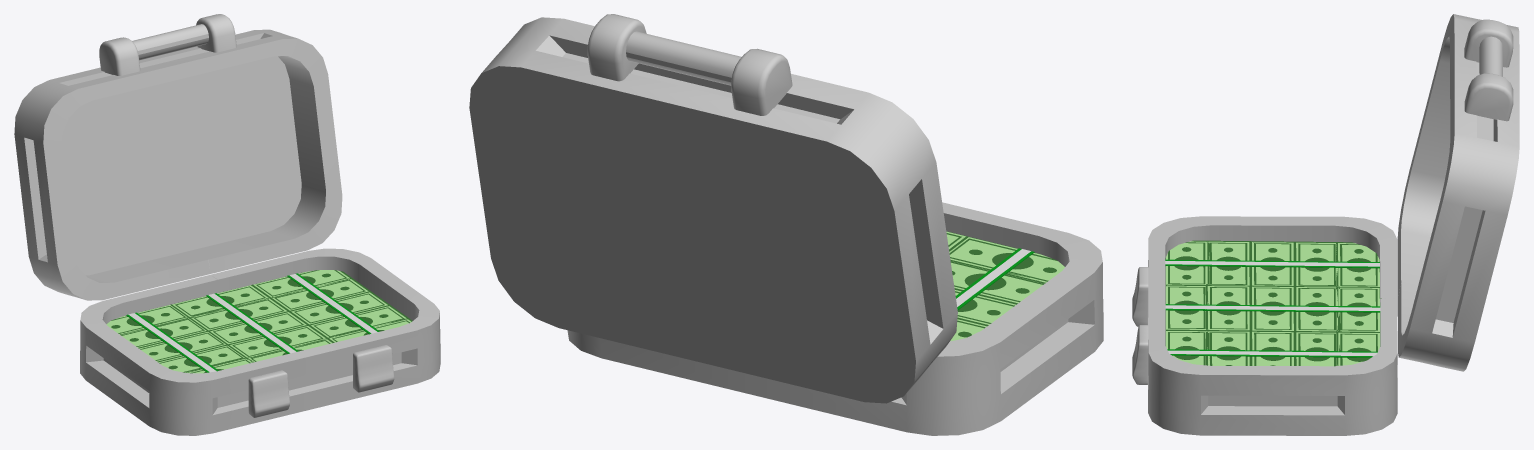
The model's file is suitcase of money.fbx.
3 renders of one model, left to right at view 1: azimuth 30°, elevation 25°; view 2: azimuth 150°, elevation 25°; view 3: azimuth 270°, elevation 25°, orthographic. The views are drawn at different scales.
Visible parts, largest first — view 1: case, Money.009, Money.013, Money.007, Money.008, Money.012, Money.006, Money.014, Money.011, Money.003, Money.001, Money.002 (+3 smaller); view 2: case, Money.005, Money.004, Money.003; view 3: case, Money.009, Money.003, Money.008, Money.007, Money.006, Money.004, Money.002, Money.010, Money.005, Money.001, Money.014 (+4 smaller).
Part boxes in pixels (x1,y1,x2,y2): case: (14, 14, 440, 435); Money.009: (227, 325, 327, 358); Money.013: (289, 291, 389, 325); Money.007: (188, 298, 288, 331); Money.008: (208, 311, 307, 345); Money.012: (270, 277, 370, 310); Money.006: (170, 285, 268, 318); Money.014: (308, 305, 408, 338); Money.011: (251, 270, 352, 297); Money.003: (138, 331, 226, 361); Money.001: (106, 305, 188, 334); Money.002: (120, 317, 207, 347); case: (469, 14, 1103, 435); Money.005: (949, 237, 1064, 283); Money.004: (950, 261, 1044, 303); Money.003: (954, 288, 1017, 325); case: (1132, 14, 1519, 435); Money.009: (1205, 285, 1252, 330); Money.003: (1249, 241, 1296, 285); Money.008: (1249, 285, 1295, 331); Money.007: (1293, 286, 1340, 331); Money.006: (1335, 286, 1381, 331); Money.004: (1205, 240, 1252, 285); Money.002: (1293, 241, 1340, 286); Money.010: (1165, 284, 1209, 330); Money.005: (1165, 240, 1210, 286); Money.001: (1335, 242, 1379, 287); Money.014: (1205, 330, 1252, 365).
Size of the model in its own units: 2.53 by 2.28 by 2.61.
